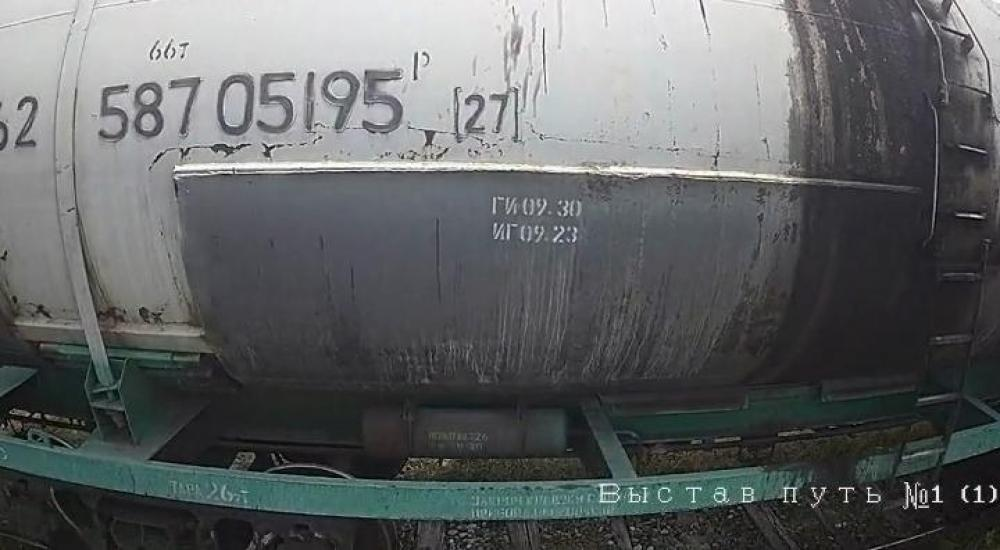Wagon-number: (94, 64, 409, 148)
